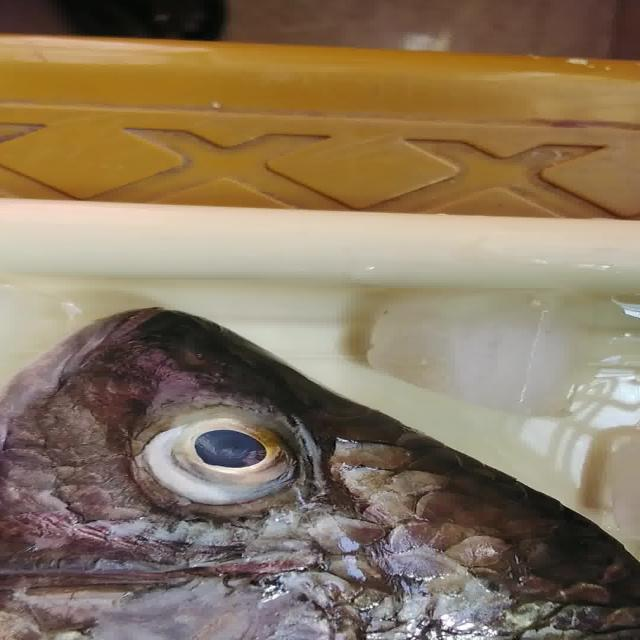Fresh: (95, 366, 381, 520)
